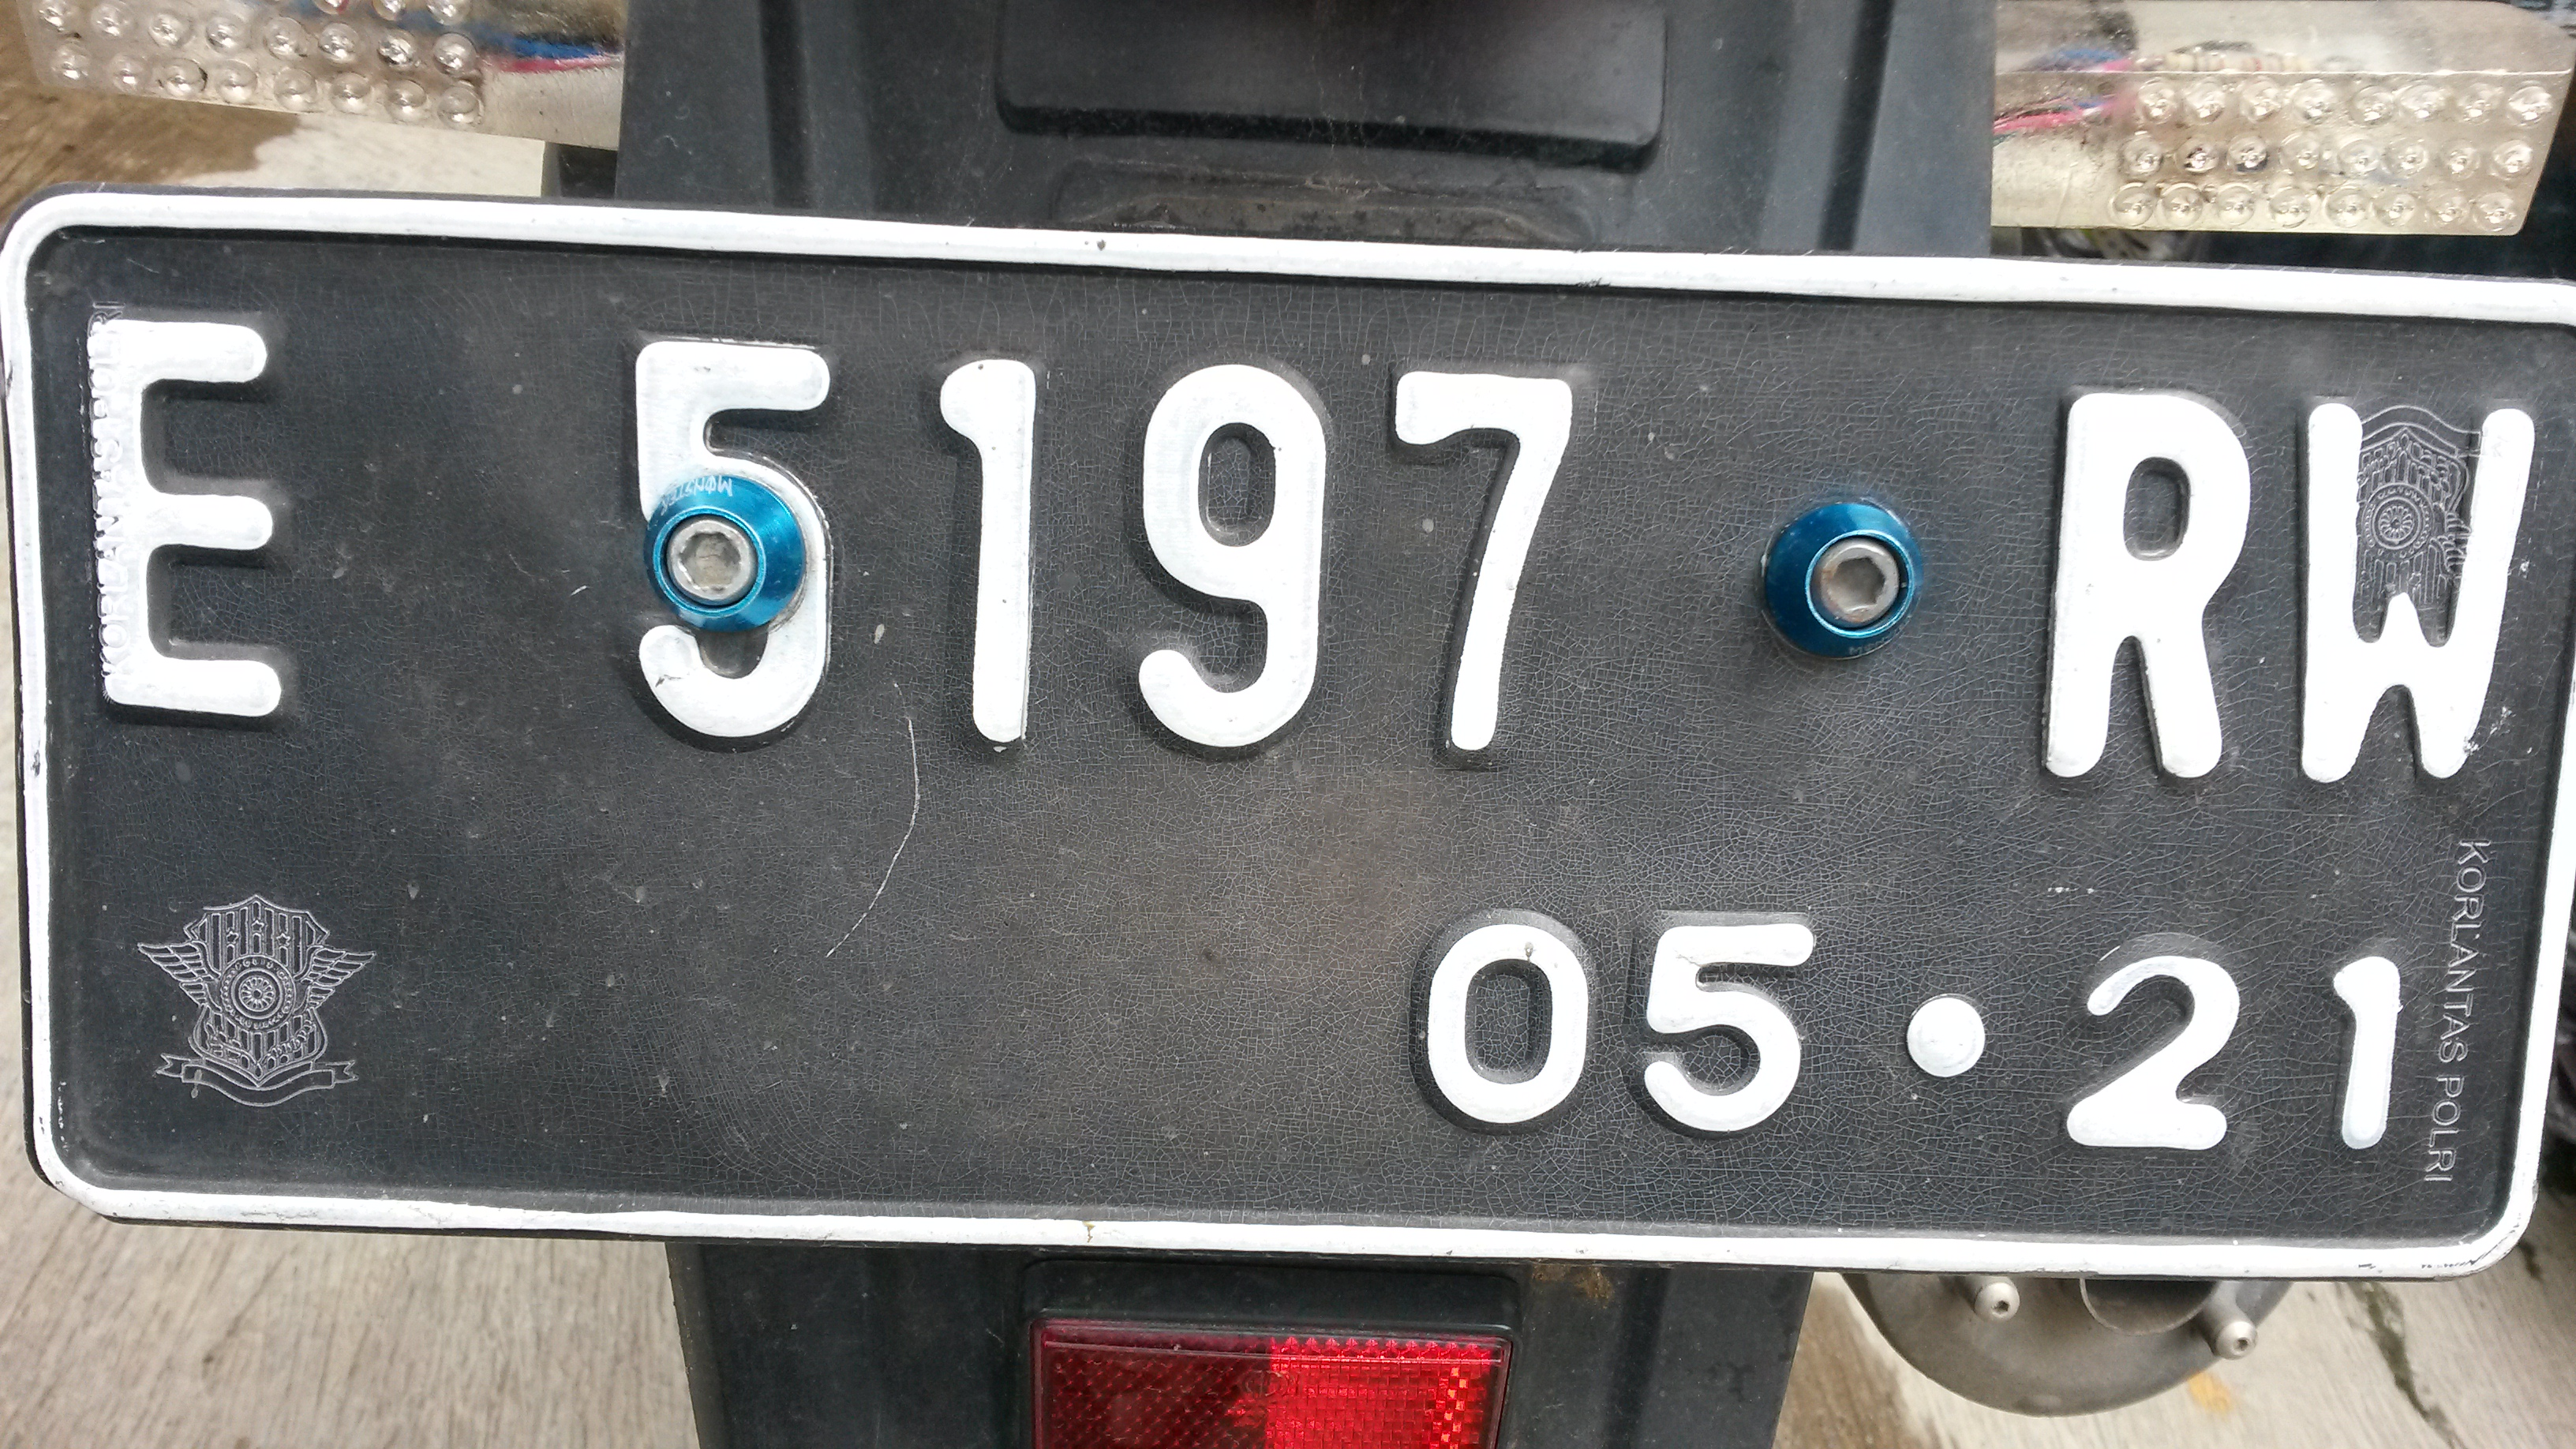plate: (2, 182, 2576, 1285)
